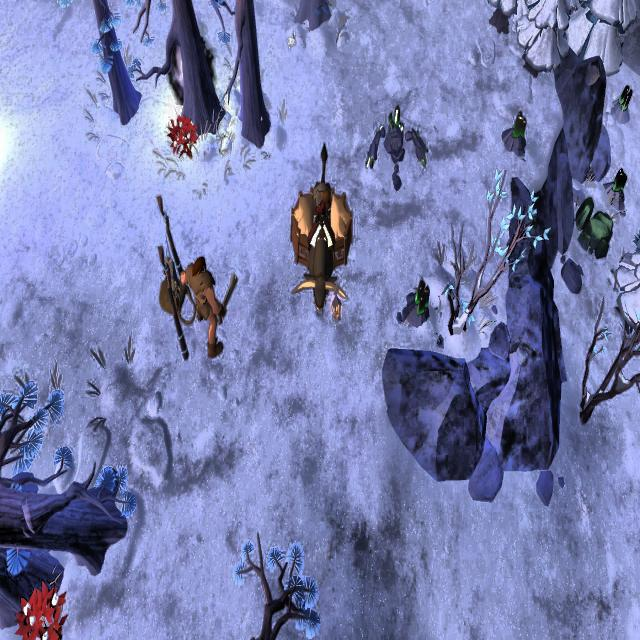enemy_factionKeeper: (178, 256, 234, 356)
fiber_t5: (12, 582, 70, 640), (166, 112, 197, 156)
ore_t3: (414, 277, 430, 319), (512, 107, 528, 147), (618, 81, 632, 115), (614, 165, 628, 197)
rock_t3: (566, 187, 614, 257)
